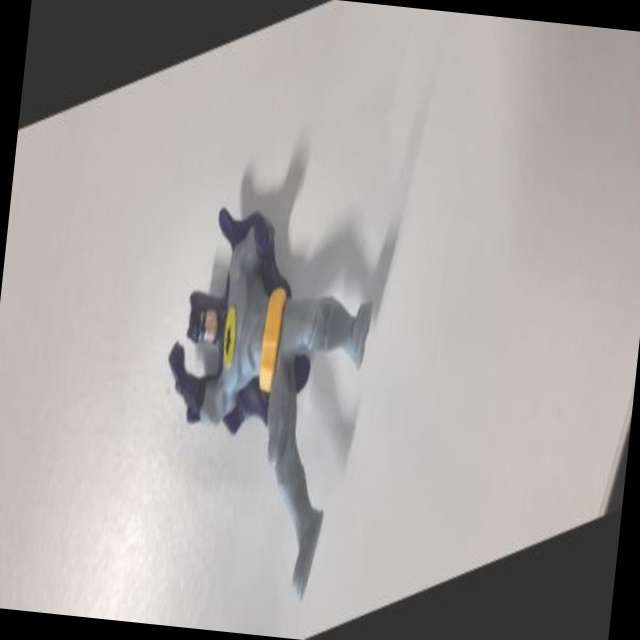Batman: (126, 125, 423, 640)
